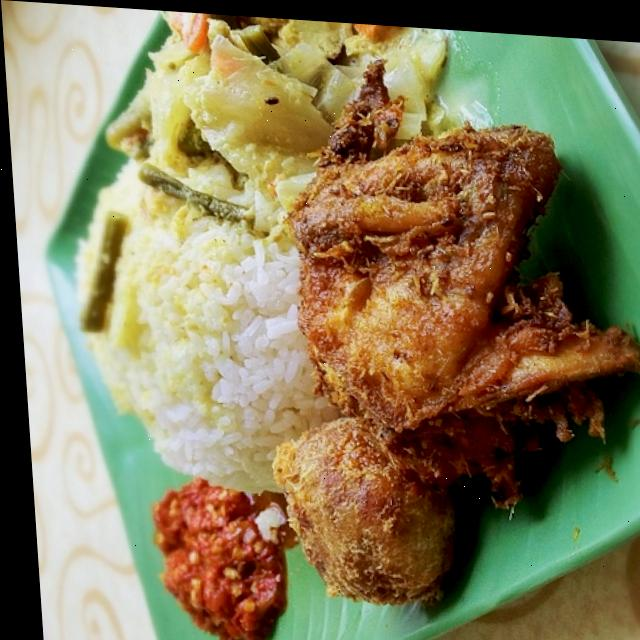米饭主食: (21, 1, 640, 640)
